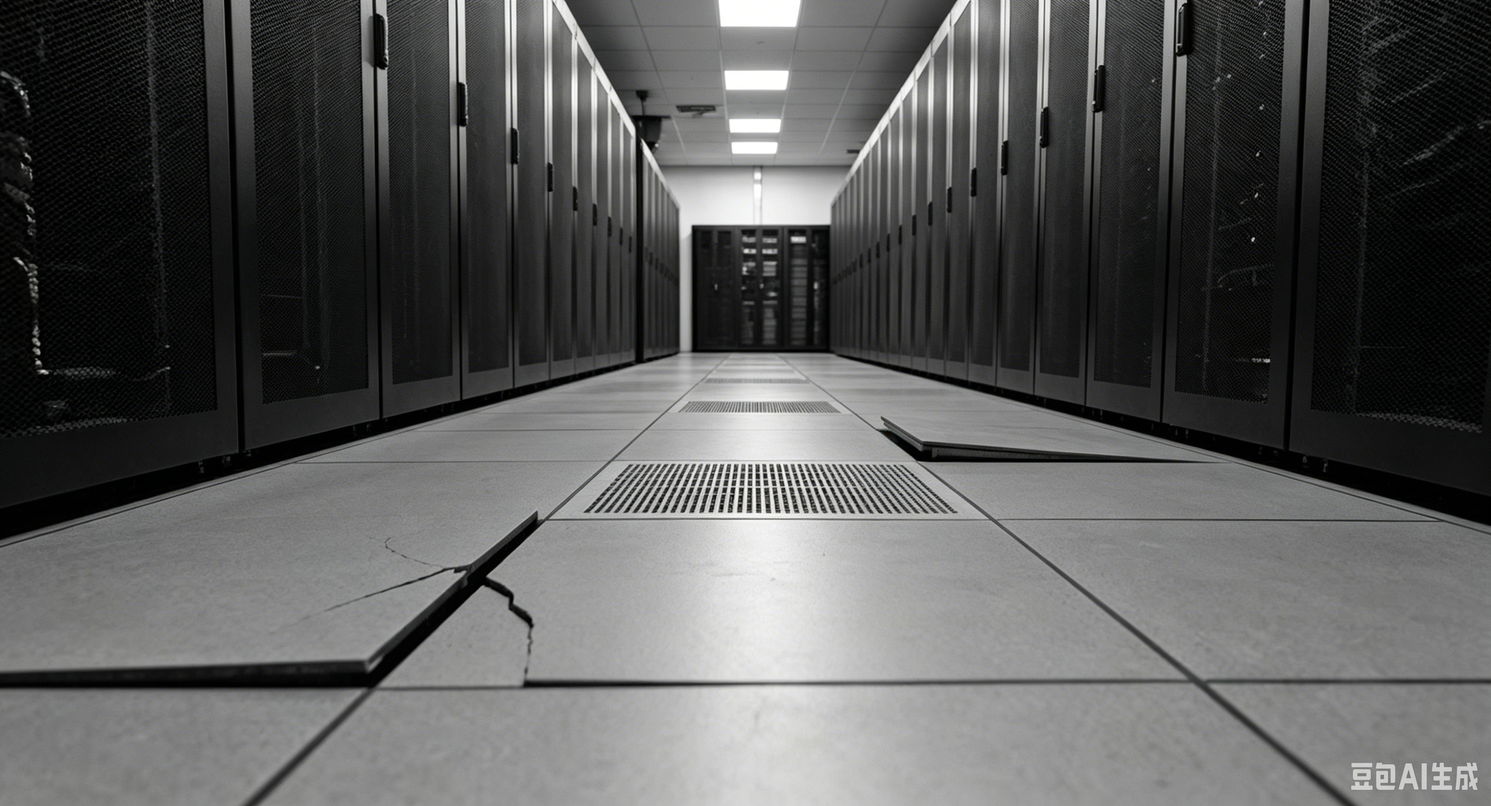floor_defect: (852, 407, 1226, 482), (10, 645, 389, 708), (465, 575, 579, 694), (377, 508, 558, 569), (307, 568, 446, 612)
